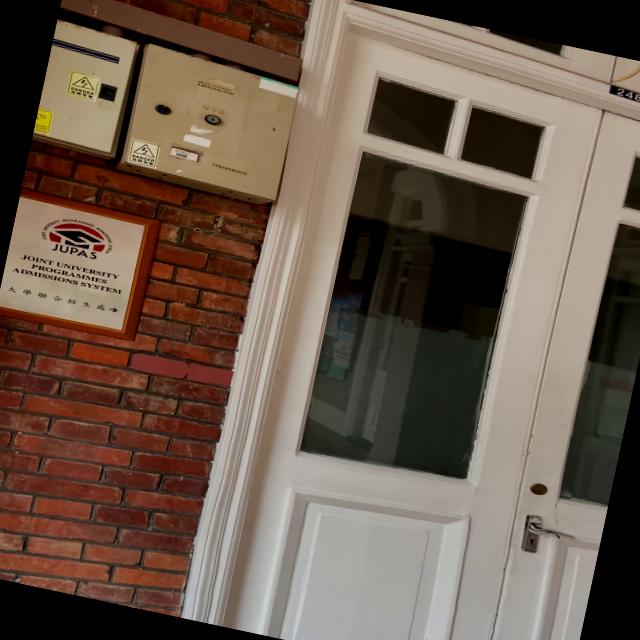room248: (602, 78, 640, 107)
